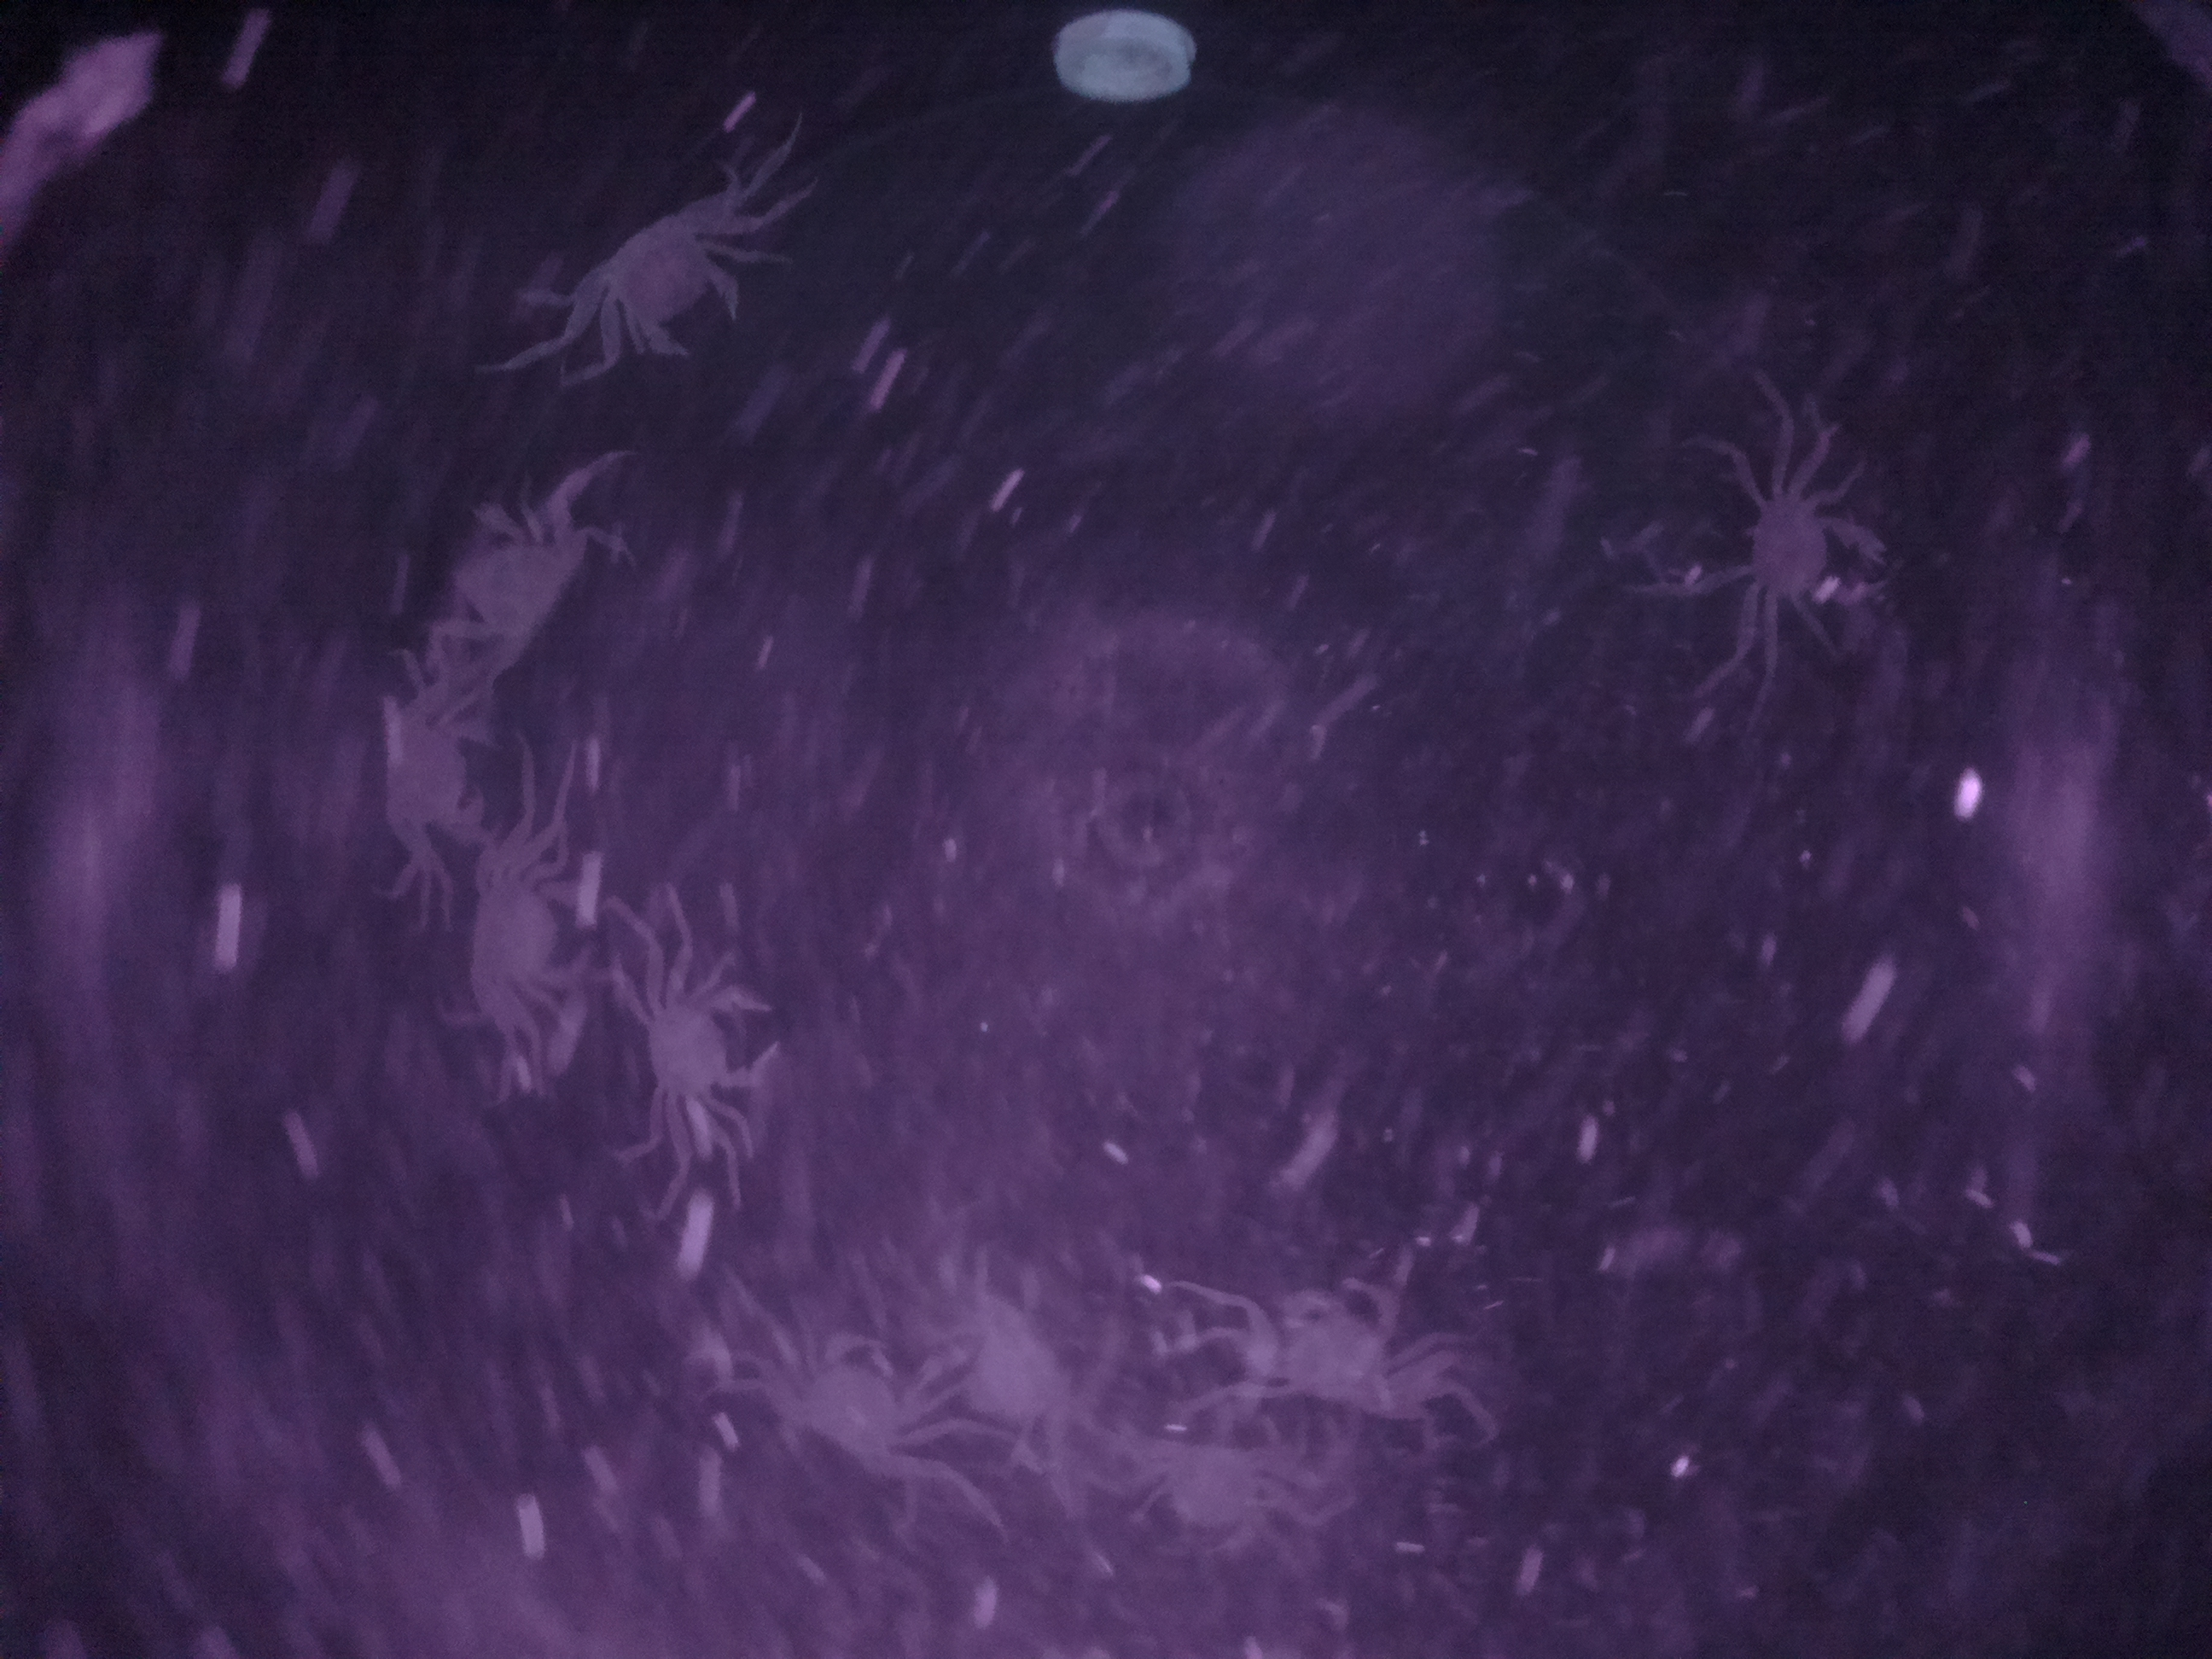Crab: (606, 958, 833, 1140), (575, 183, 758, 382), (446, 823, 611, 1040), (1695, 469, 1897, 638)
